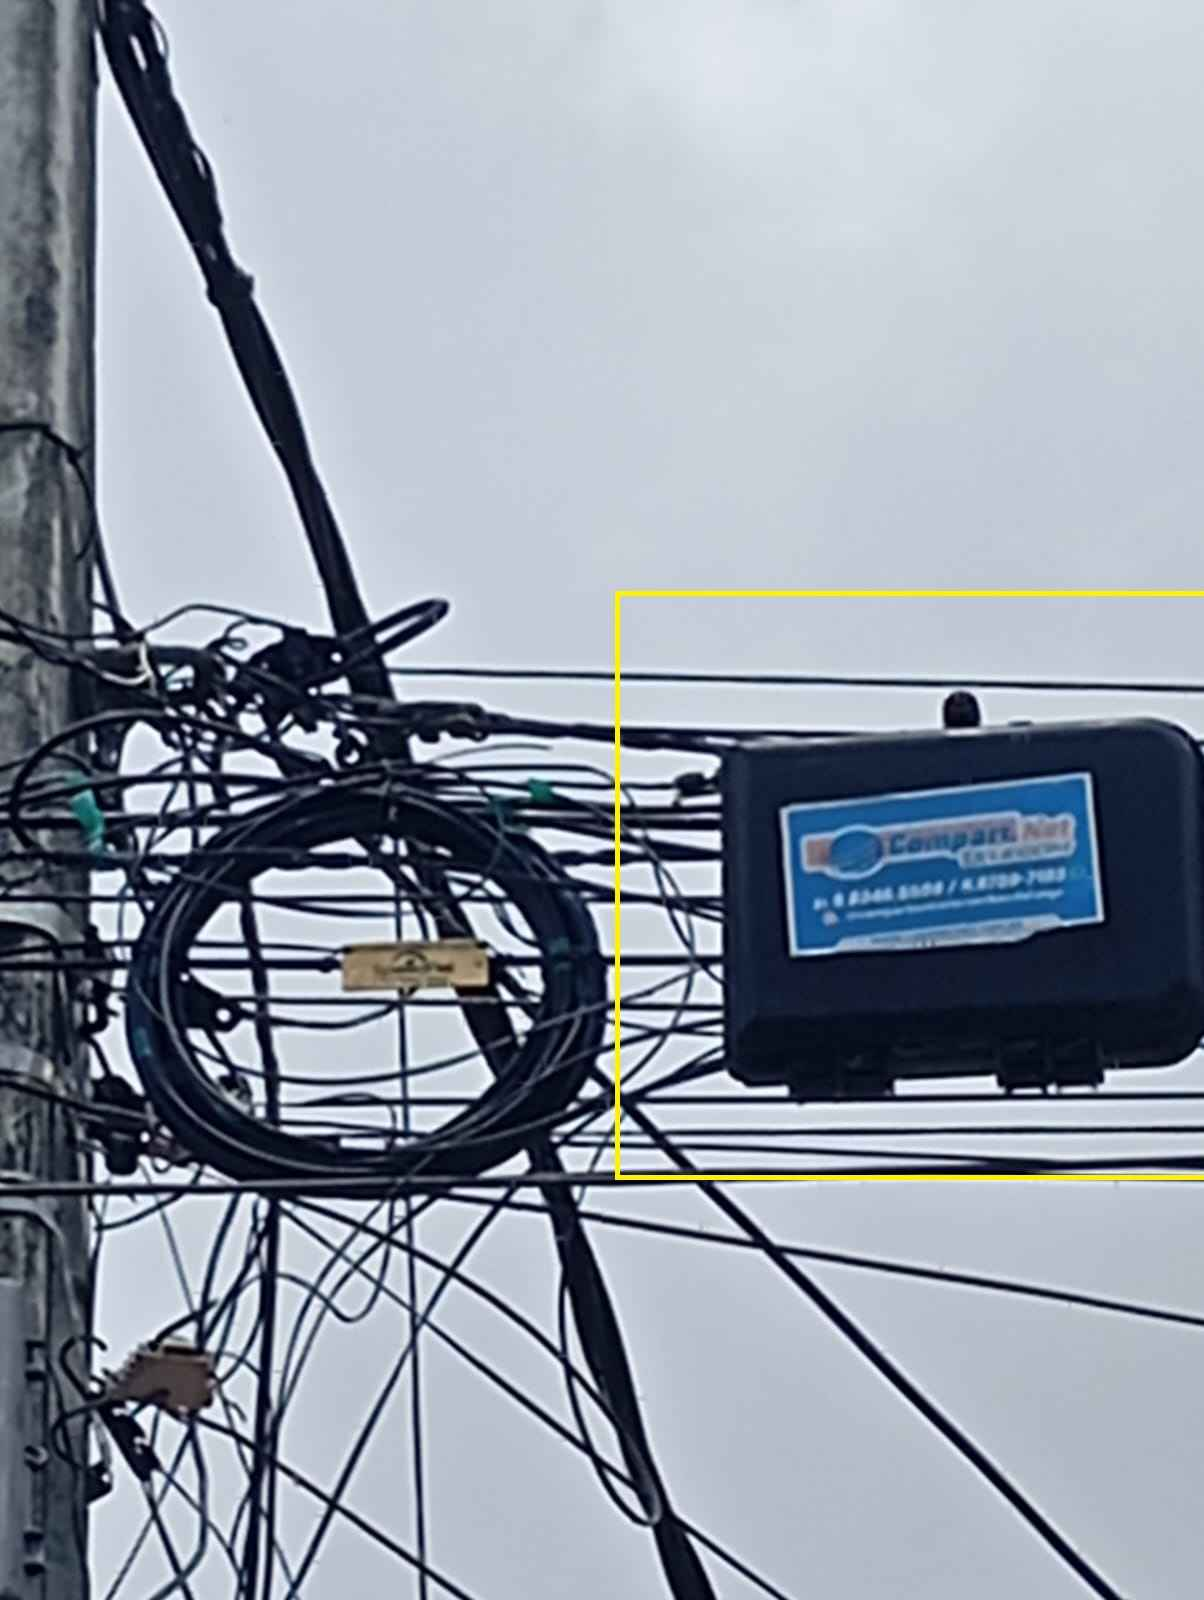caixa_derivacao: (708, 702, 1204, 1105)
drop: (64, 1334, 274, 1446)
fibra_optica: (330, 921, 484, 1004)
tronco_metalico: (130, 756, 608, 1223)
